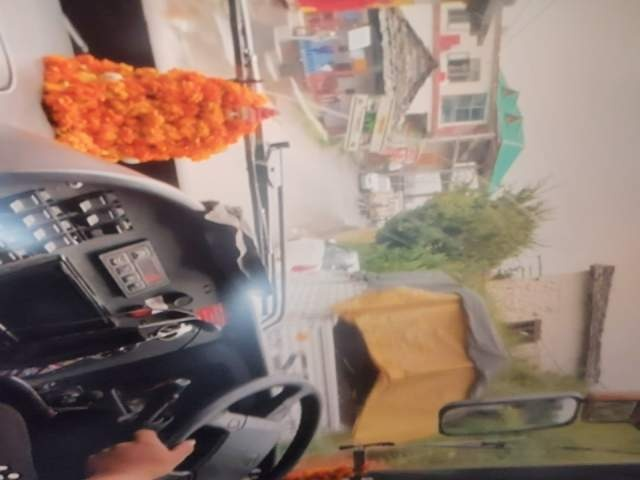pothole: (319, 319, 419, 399)
